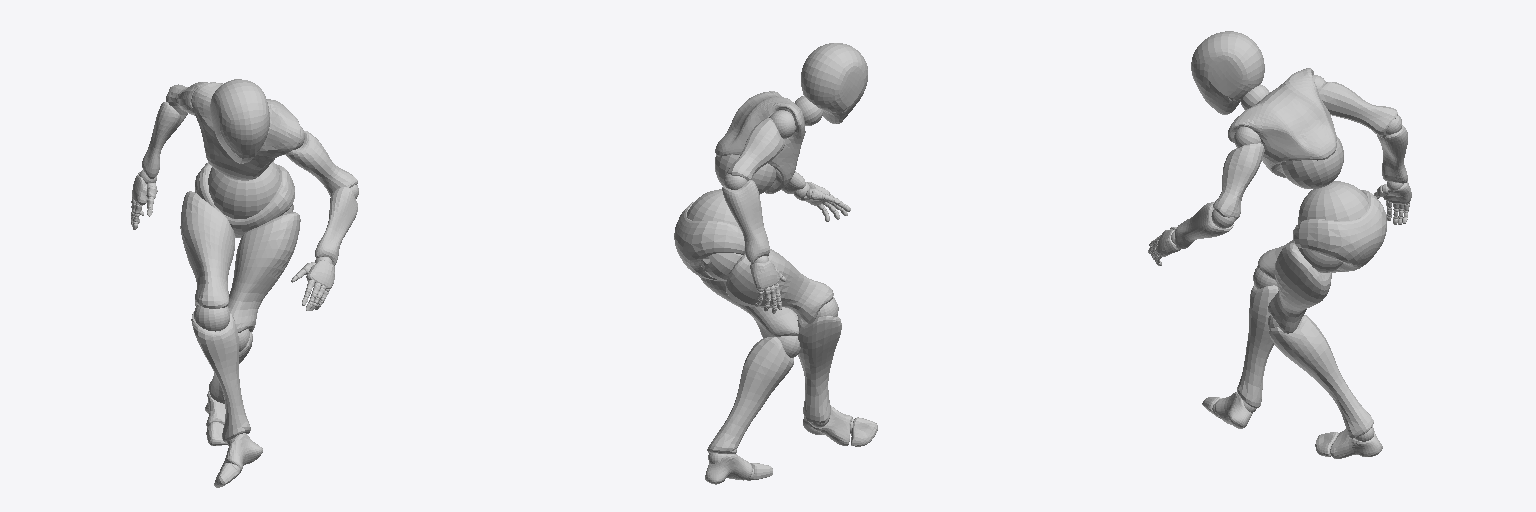
The picture shows the model from 3 angles: view 1: azimuth 30°, elevation 25°; view 2: azimuth 150°, elevation 25°; view 3: azimuth 270°, elevation 25°; orthographic projection.
Parts seen in each view (by area): view 1: Beta_Surface, Beta_Joints; view 2: Beta_Surface, Beta_Joints; view 3: Beta_Surface, Beta_Joints.
Boxes of the visible parts, box(x1,y1,x2,y2) form: Beta_Surface: box(131, 79, 357, 487); Beta_Joints: box(131, 94, 358, 473); Beta_Surface: box(674, 43, 877, 484); Beta_Joints: box(687, 96, 853, 480); Beta_Surface: box(1148, 31, 1411, 458); Beta_Joints: box(1149, 75, 1409, 441).
Size of the model in its own units: 0.5641 by 1.47 by 0.8723.